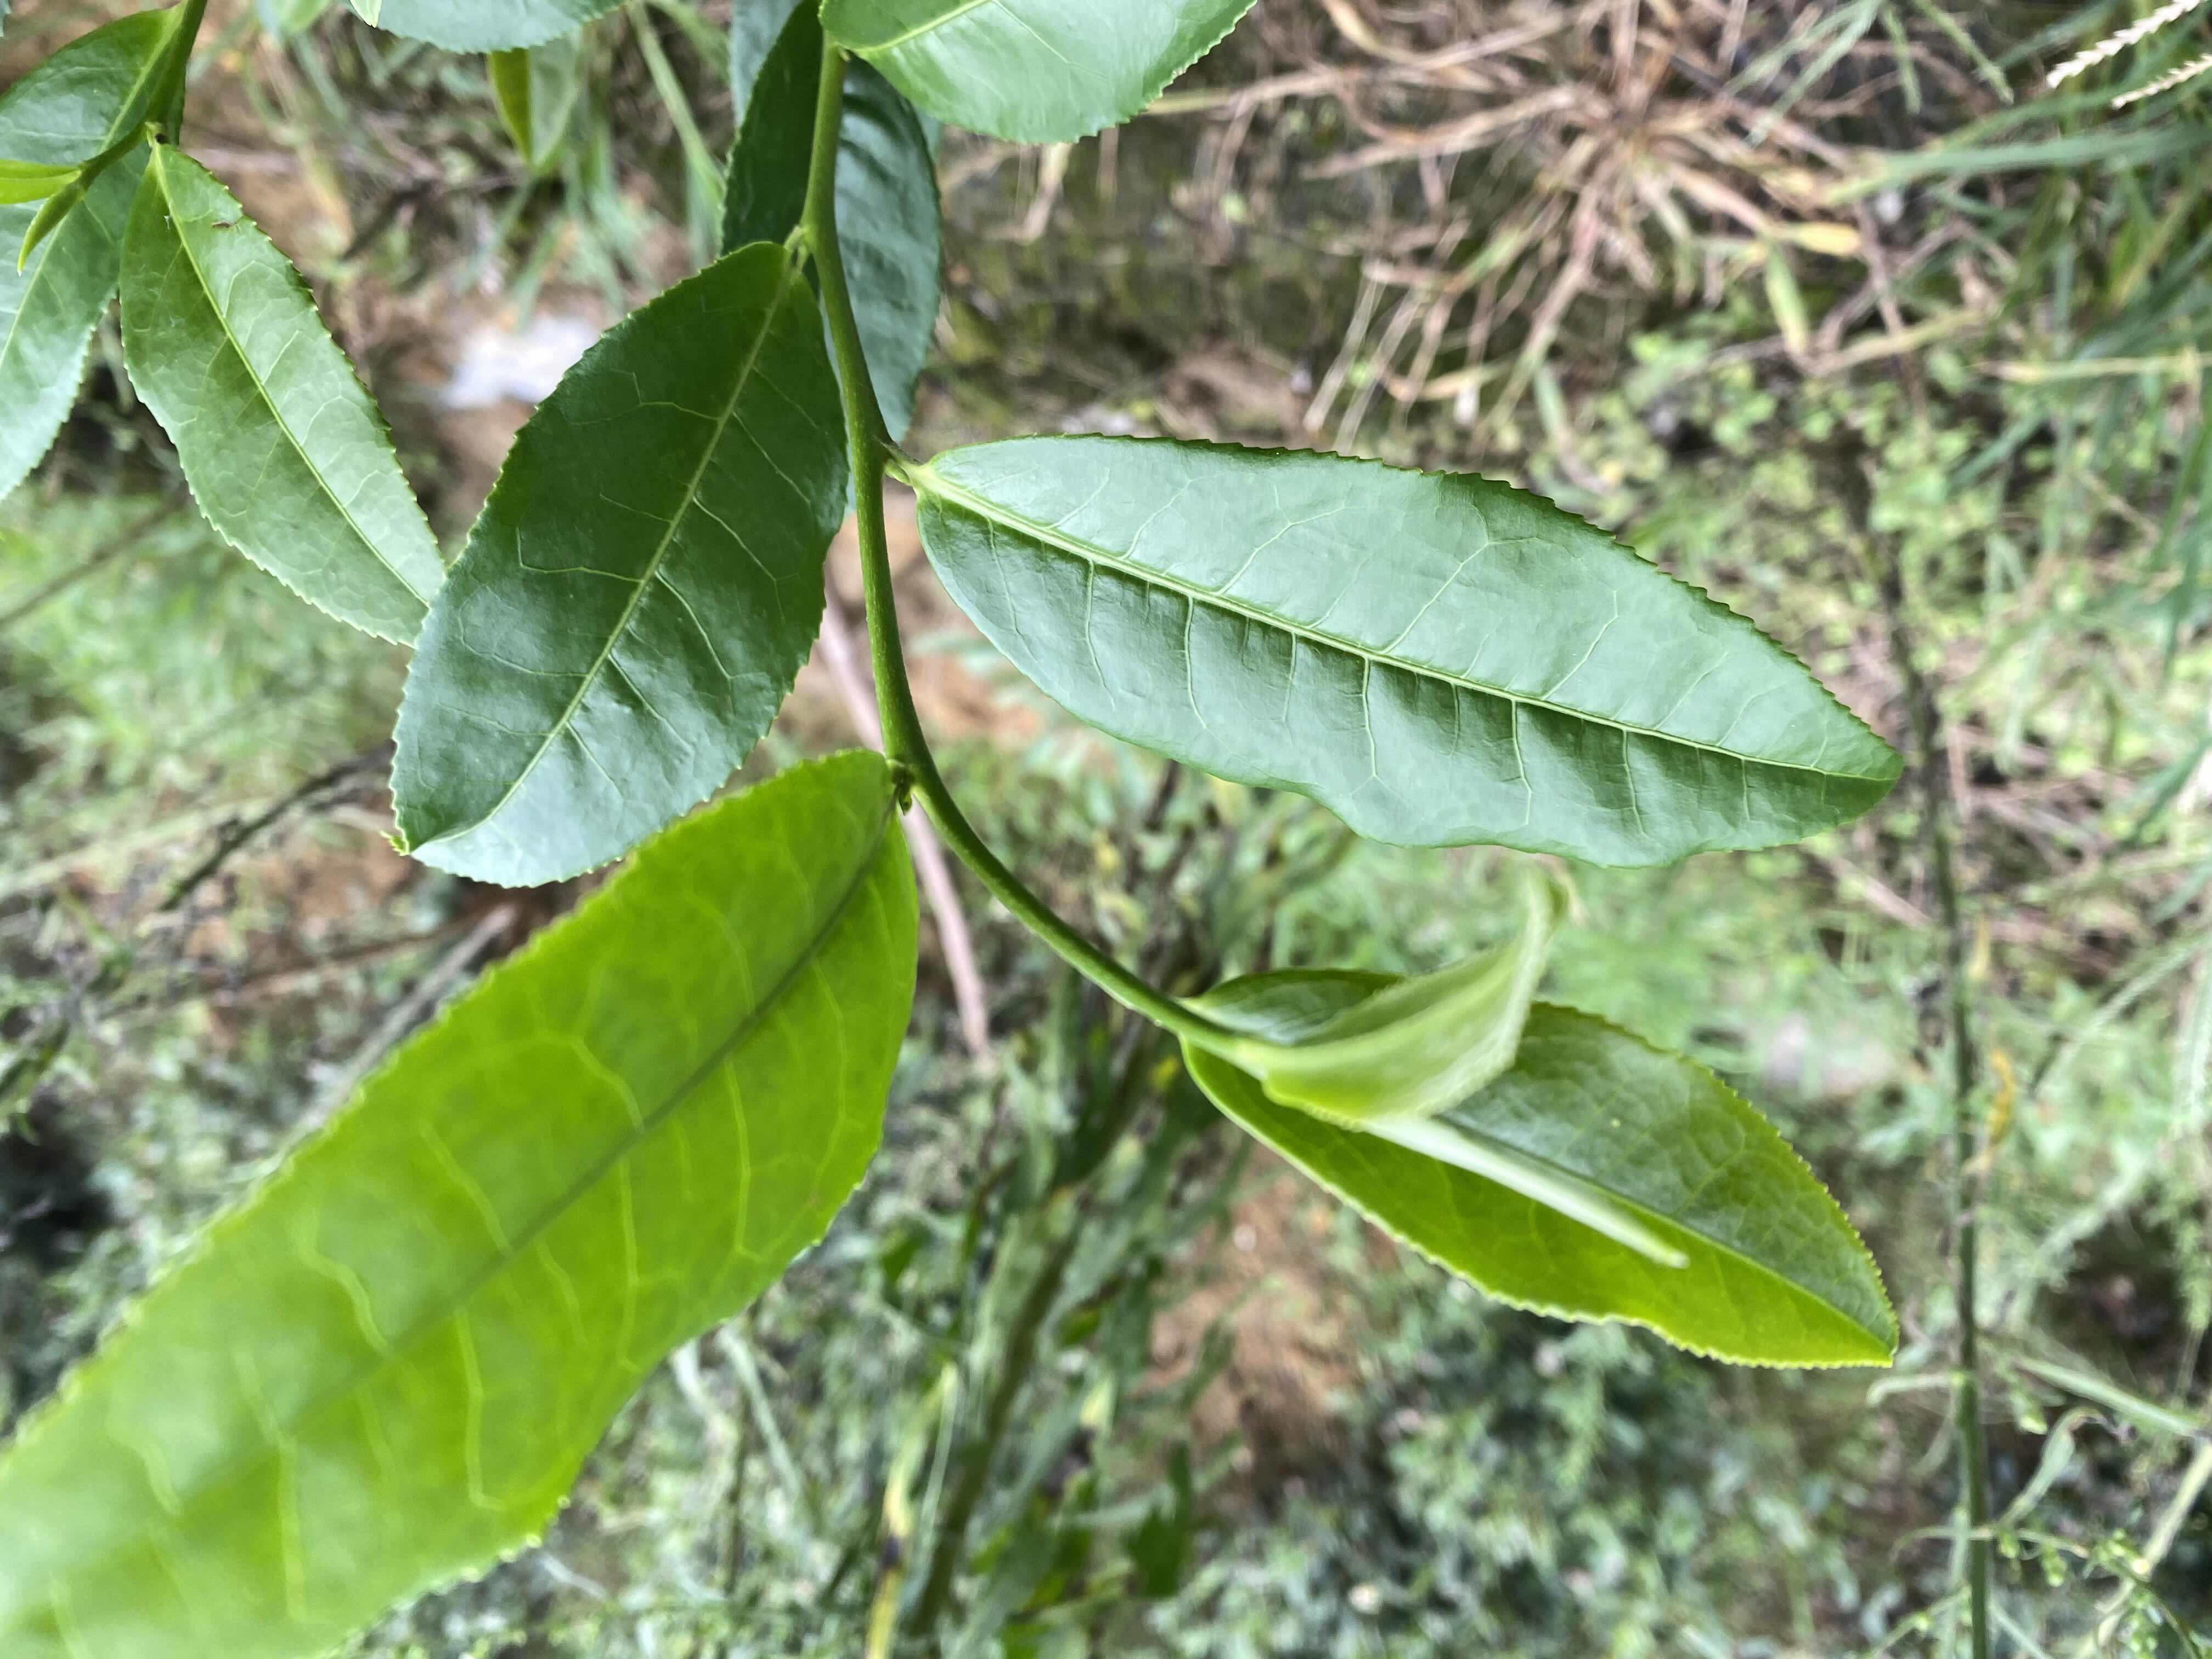healthy: (2, 751, 923, 1656), (916, 430, 1909, 873), (383, 242, 848, 894), (1176, 962, 1904, 1368), (115, 143, 446, 641)
